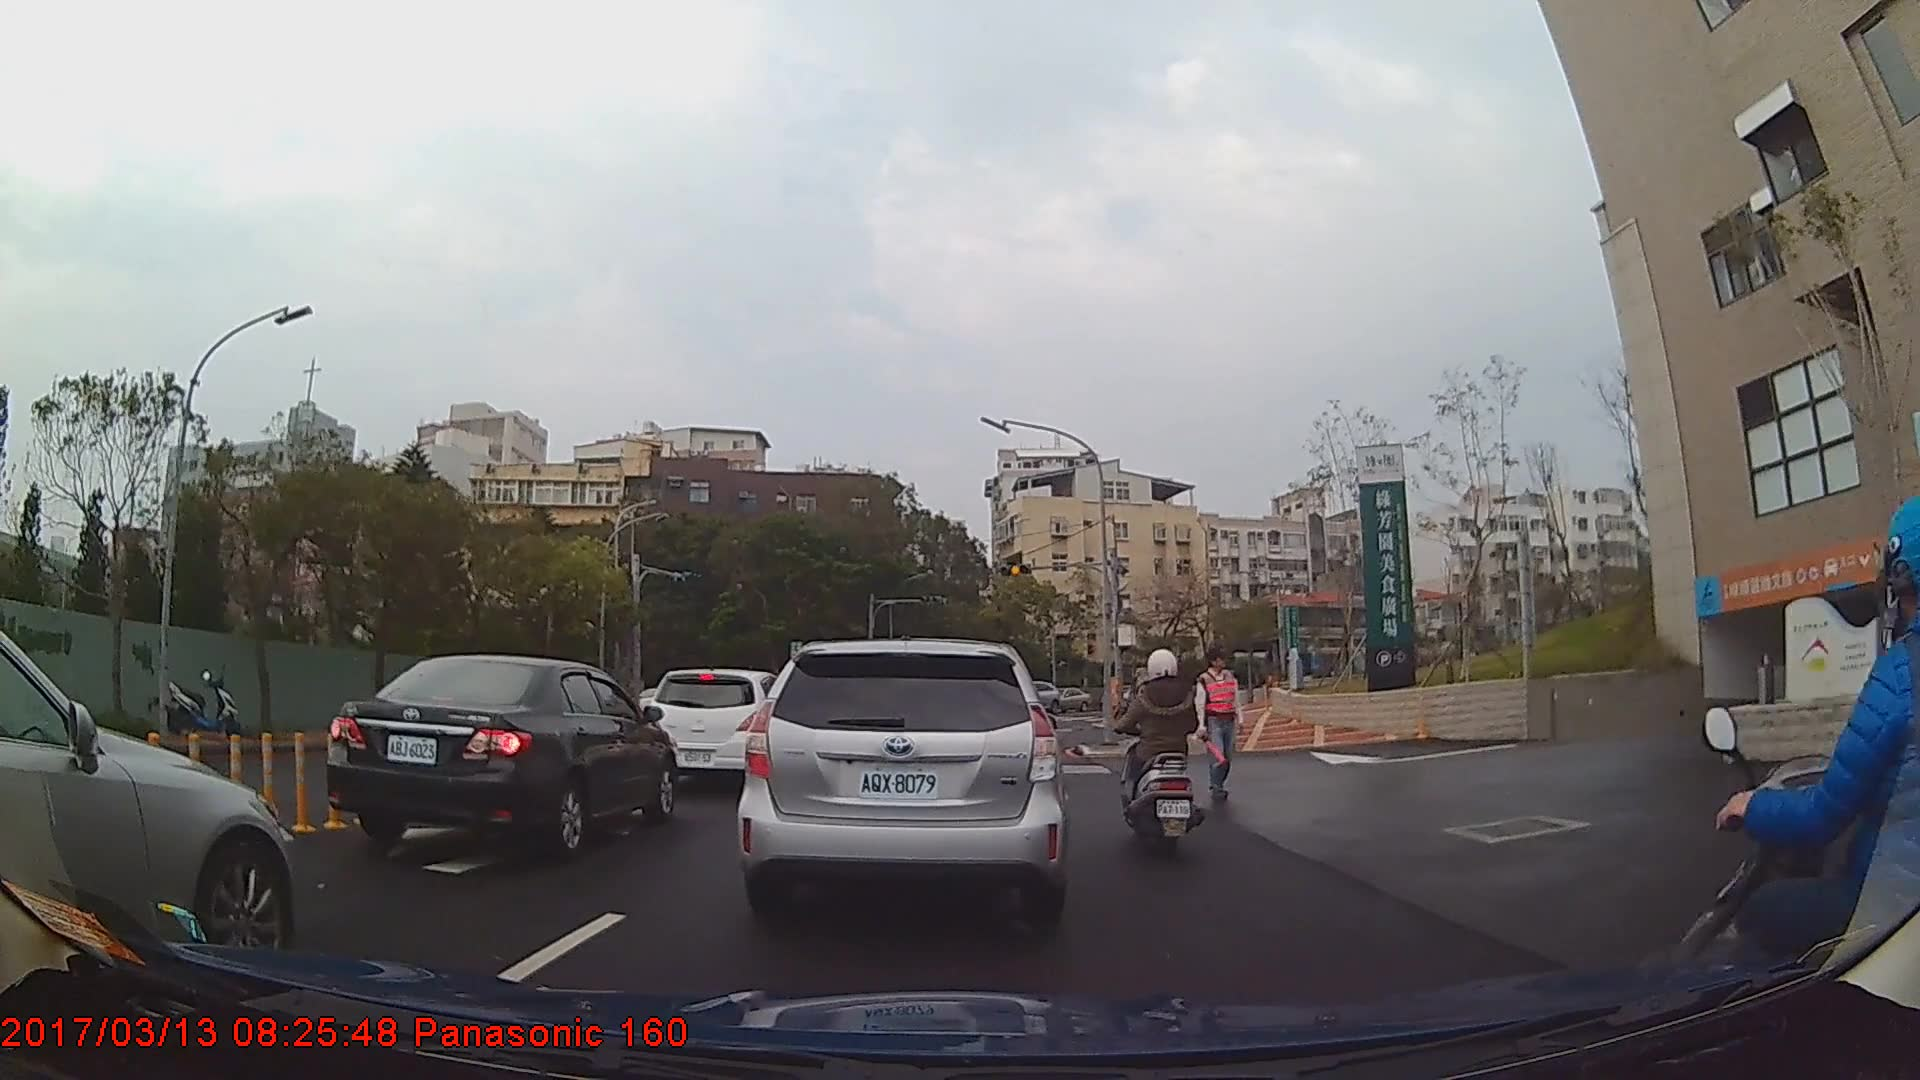pedestrian: (1194, 648, 1247, 801)
rider: (1666, 491, 1920, 1080), (1118, 648, 1203, 859)
vehicle: (0, 625, 294, 965), (734, 635, 1066, 926), (323, 653, 677, 855), (646, 668, 790, 790), (1053, 682, 1093, 711)
